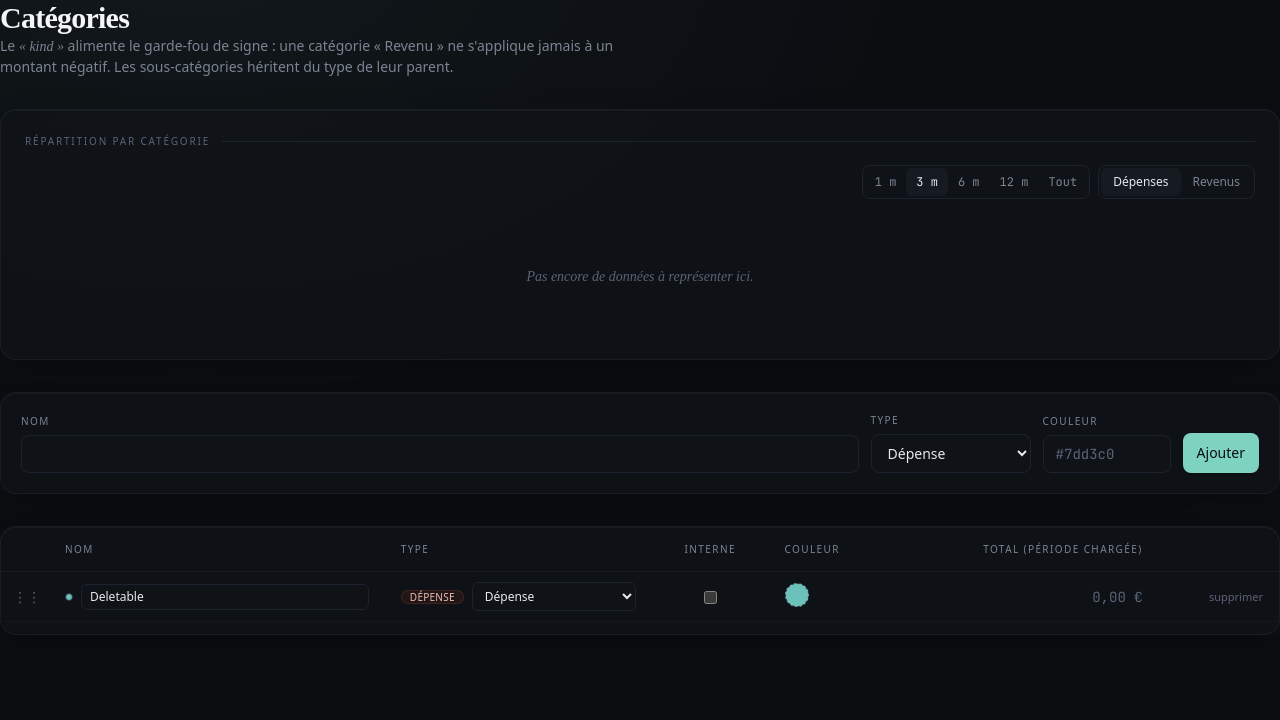
Test: Categories page › opens the confirm dialog on delete and DELETEs on confirm
Expected: the field showing "Deletable" is shown, [81,584,369,610]
Click the button "supprimer" at (1236, 597), box [1209,587,1263,607]
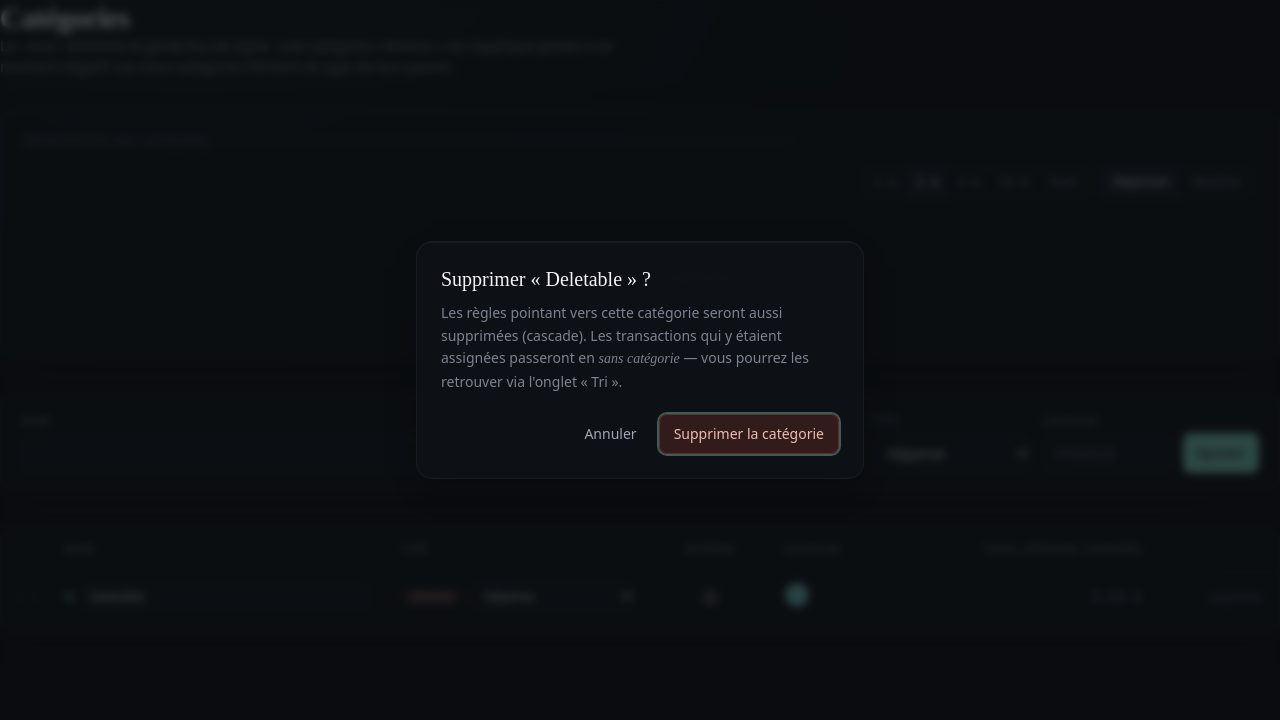
Click the button "Supprimer la catégorie" at (749, 434), box [659,414,839,454]
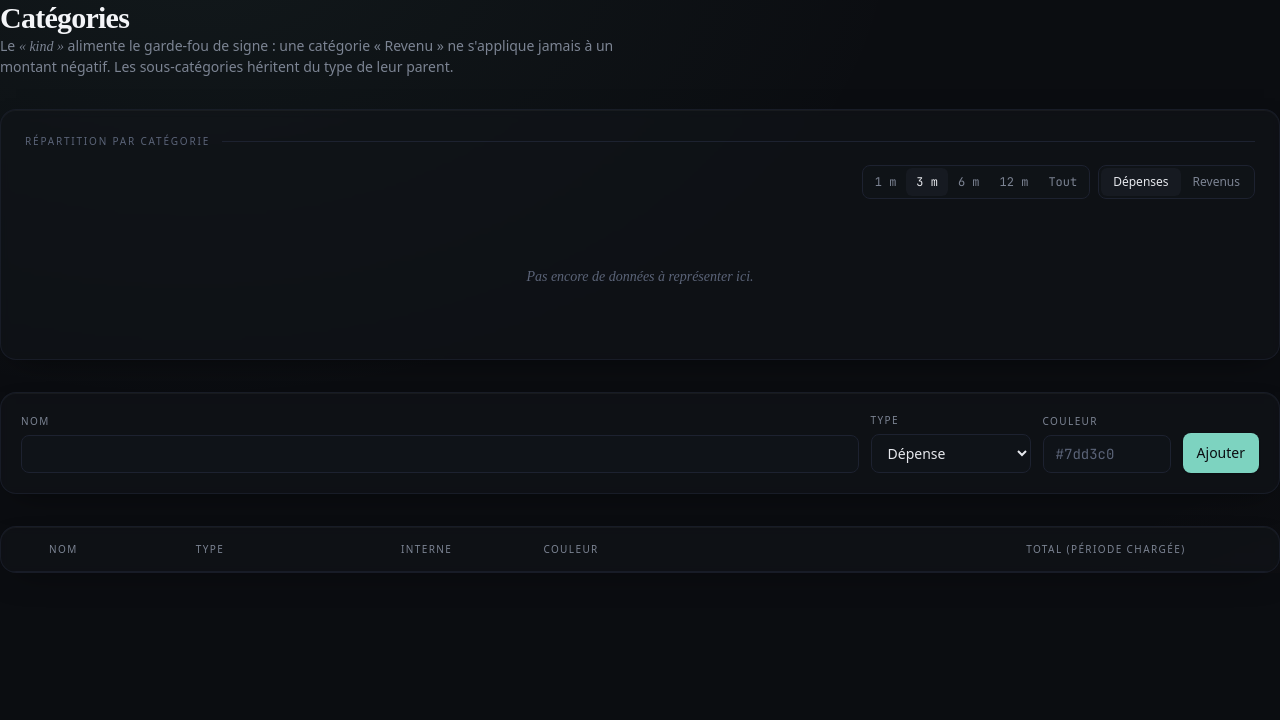
Now the text showing "Deletable" is gone
